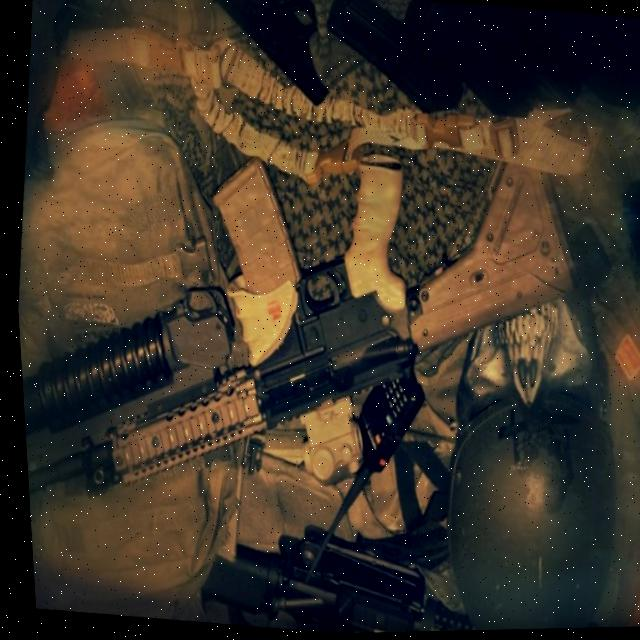firearm: (6, 115, 593, 579), (186, 533, 640, 637)
pistol: (199, 0, 336, 113)
